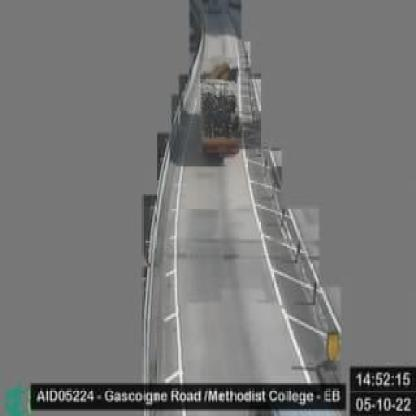Truck: (198, 61, 239, 156)
